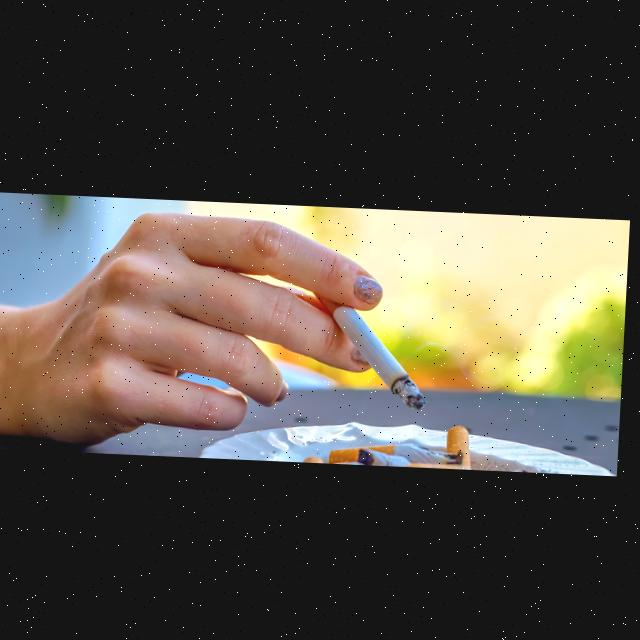cigarette: (323, 300, 436, 407), (334, 437, 469, 466)
